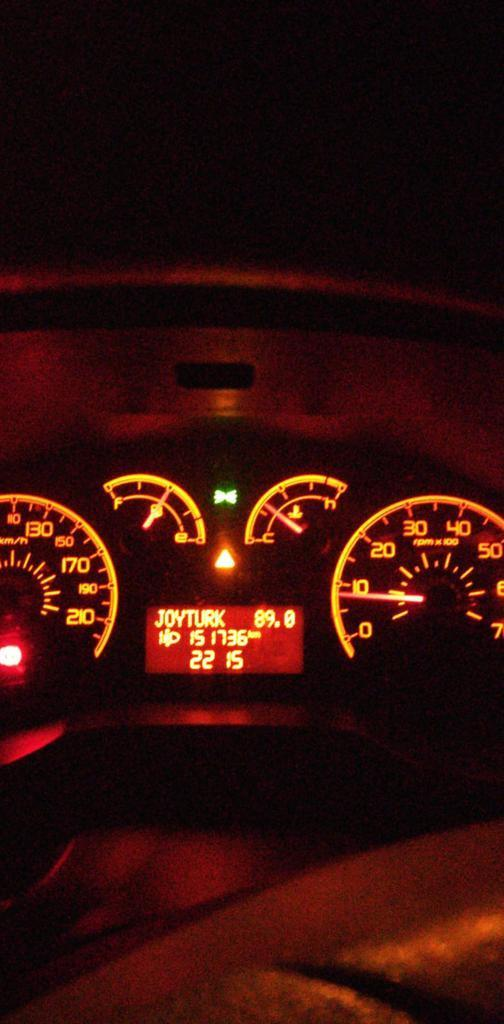-: (273, 619, 281, 629)
0: (282, 608, 295, 628)
1: (225, 649, 230, 669), (210, 628, 215, 646), (157, 629, 162, 647), (188, 628, 193, 645)
2: (202, 648, 214, 669), (190, 648, 201, 669)
3: (226, 627, 236, 646)
5: (230, 648, 243, 669), (193, 628, 204, 646)
6: (236, 628, 247, 645)
7: (216, 627, 226, 645)
8: (253, 608, 264, 627)
9: (264, 607, 275, 628)
X: (214, 607, 227, 627), (152, 607, 163, 627), (174, 607, 184, 627), (164, 607, 174, 626), (184, 608, 194, 627), (194, 608, 204, 627), (204, 608, 214, 627), (252, 629, 260, 638), (247, 628, 252, 638)
odometer: (138, 600, 310, 679)
